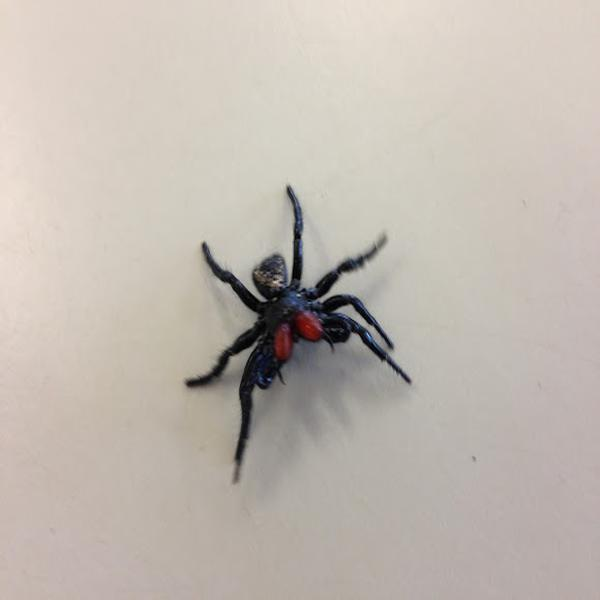Red Headed Mouse Spider: (189, 186, 413, 480)
